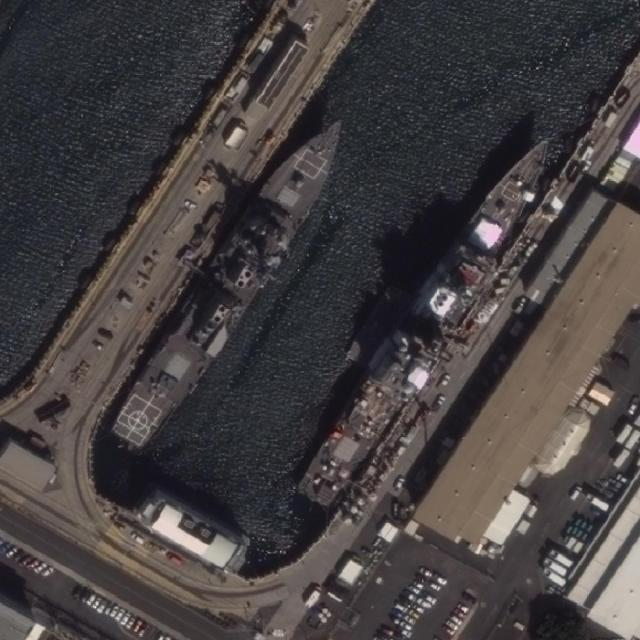Cruiser: (292, 127, 567, 509)
Destroyer: (104, 105, 365, 457)
